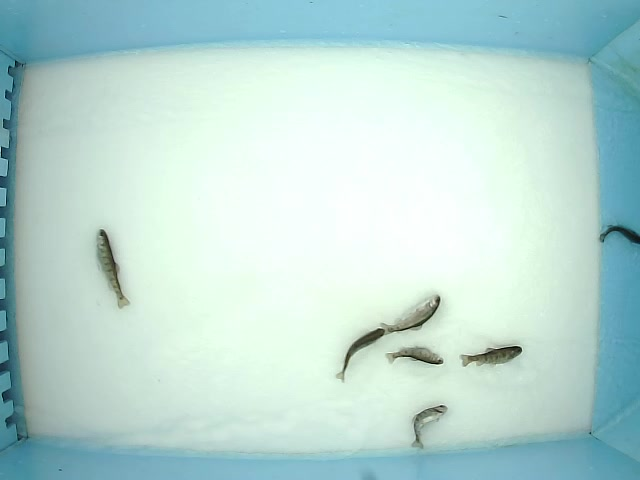fish: (94, 228, 132, 310), (334, 326, 385, 384), (380, 293, 441, 335), (410, 403, 448, 451), (459, 344, 524, 370), (384, 345, 445, 366)
